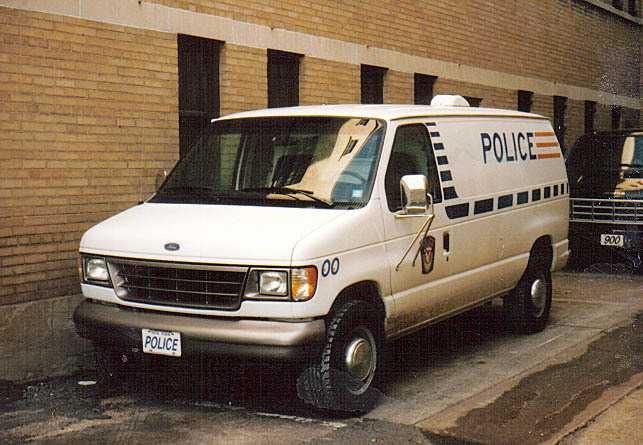Police Van: (76, 89, 579, 395)
